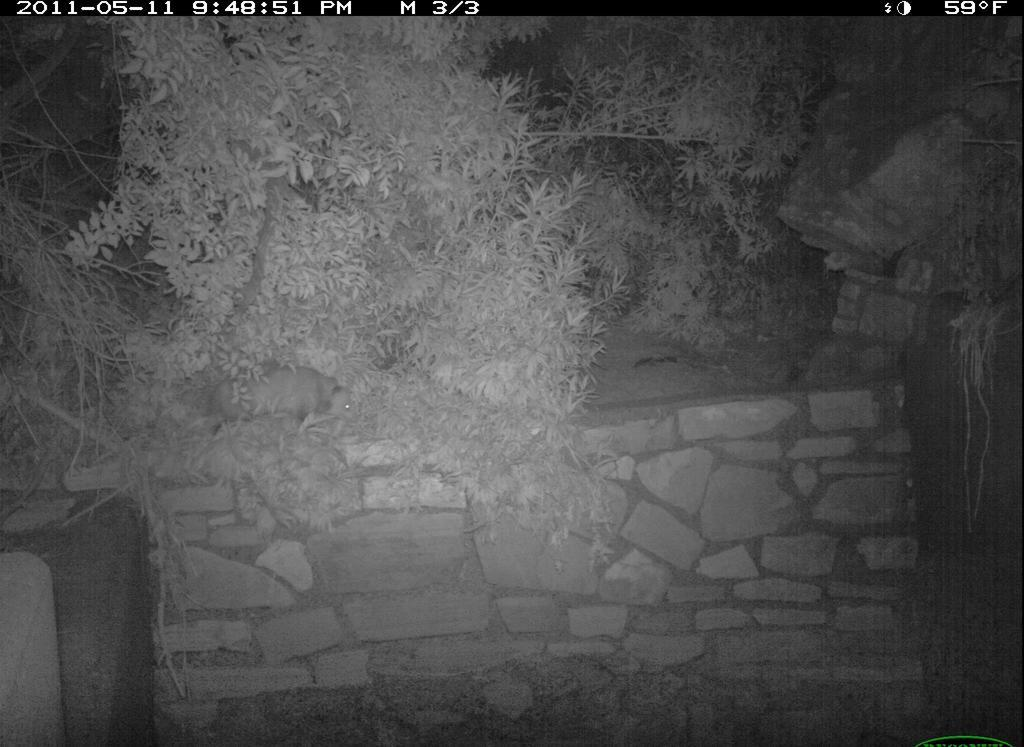opossum: (175, 351, 369, 456)
